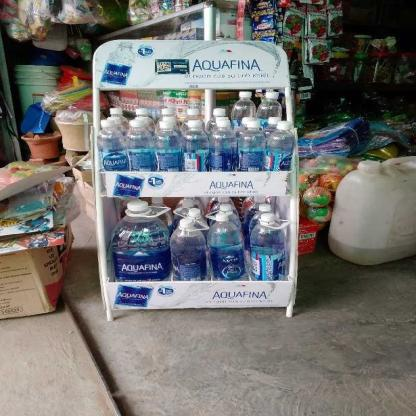aquafina: (110, 203, 169, 281), (250, 213, 286, 279), (209, 214, 244, 279), (170, 218, 206, 280), (96, 120, 127, 171), (182, 121, 210, 171), (266, 121, 294, 171), (238, 120, 265, 170), (128, 120, 154, 171), (156, 121, 182, 172), (210, 120, 235, 172)
